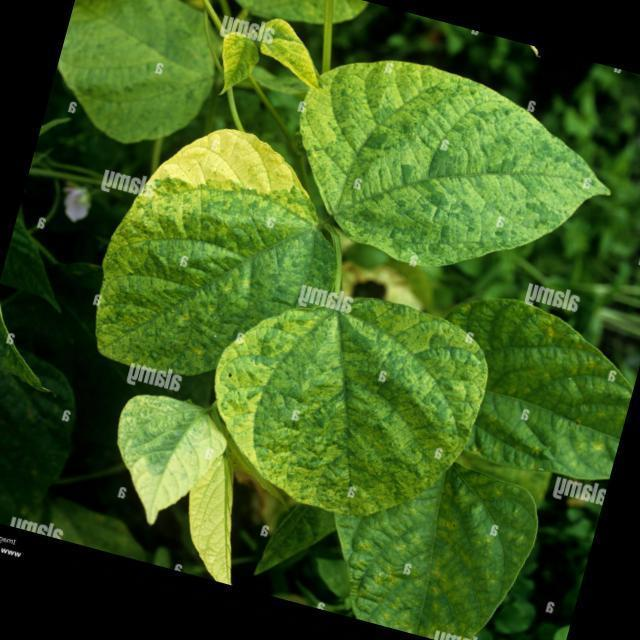Mosaic Virus: (80, 90, 334, 392), (208, 258, 489, 528), (323, 58, 619, 296), (417, 274, 640, 490), (327, 451, 531, 640), (92, 386, 228, 517)
